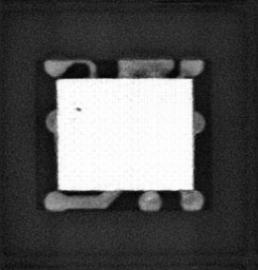DIE_INK: (75, 105, 83, 112)
